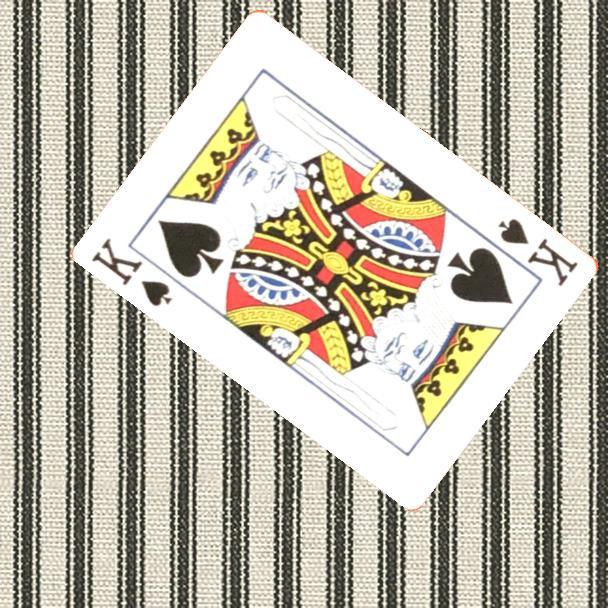s13: (88, 234, 176, 310), (494, 214, 582, 289)
